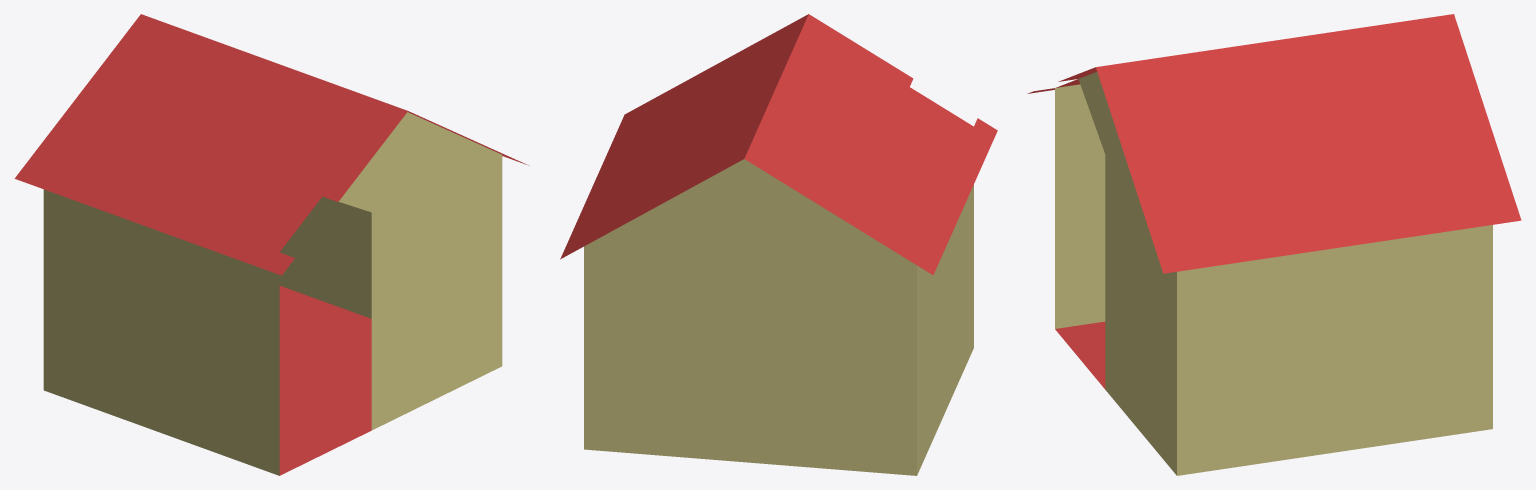
3 views of the same model, side by side, from view 1: azimuth 30°, elevation 25°; view 2: azimuth 150°, elevation 25°; view 3: azimuth 270°, elevation 25° (orthographic). The views are drawn at different scales.
Bounding box in the file's own units: 17.32 × 16.64 × 12.59.
